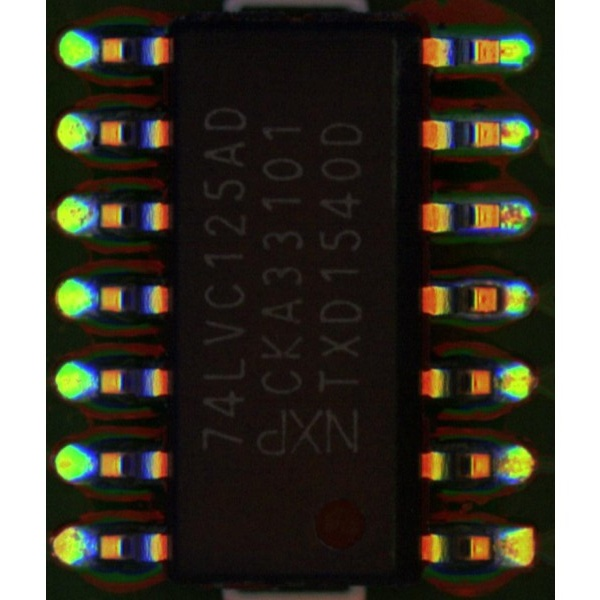Bad_podu: (488, 41, 512, 60), (491, 205, 509, 227), (493, 125, 514, 143)
